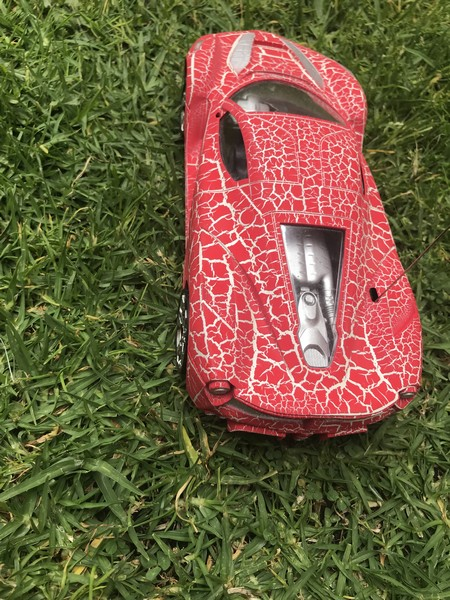RC: (173, 27, 423, 443)
